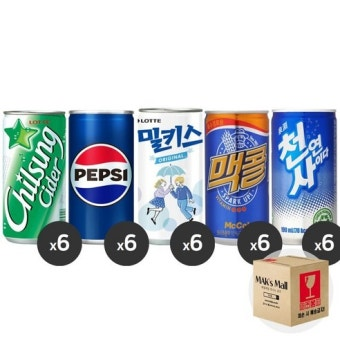paper: (134, 109, 205, 245), (273, 109, 340, 247), (210, 107, 270, 249), (70, 112, 134, 245), (3, 112, 66, 247)
